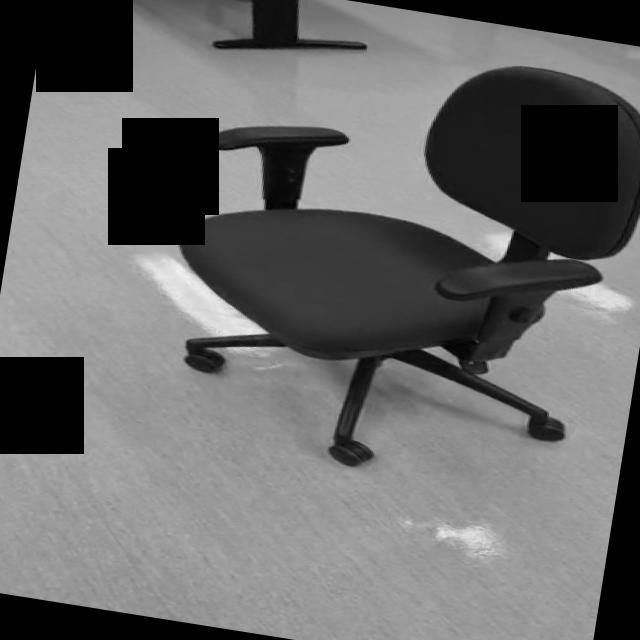chair: (145, 15, 640, 506)
